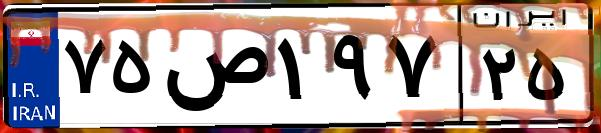1: (270, 28, 330, 110)
2: (475, 38, 525, 113)
5: (525, 38, 570, 115), (110, 28, 158, 98)
7: (385, 28, 445, 110), (57, 26, 110, 100)
9: (330, 28, 385, 110)
ص: (158, 20, 270, 120)
